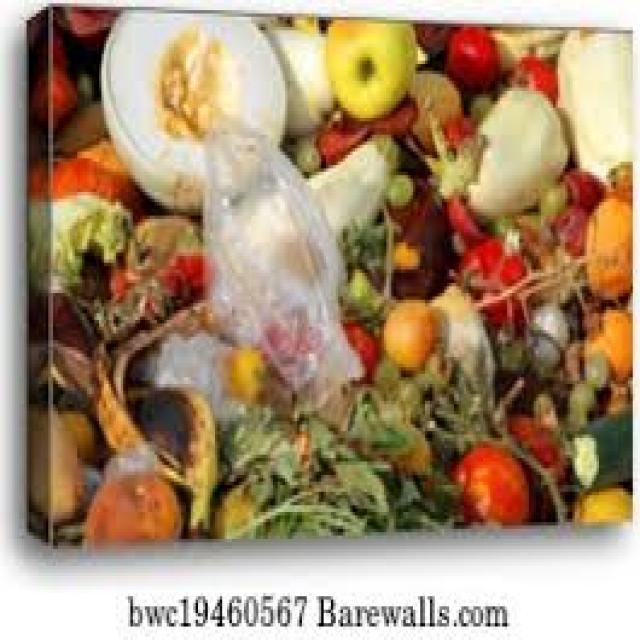organic waste: (27, 300, 215, 532), (94, 7, 285, 209), (217, 387, 464, 529), (461, 81, 565, 215), (553, 24, 628, 175), (27, 192, 128, 300), (280, 91, 418, 168), (425, 276, 495, 418), (99, 206, 205, 296), (302, 131, 398, 226), (324, 17, 416, 114), (259, 23, 338, 132), (29, 401, 97, 519), (389, 172, 449, 293), (502, 408, 565, 518), (447, 442, 526, 526), (80, 465, 178, 532), (29, 155, 135, 216), (312, 91, 413, 155), (452, 236, 526, 323), (437, 27, 565, 74), (418, 101, 478, 192), (376, 293, 439, 371), (570, 411, 628, 488), (584, 199, 630, 296), (147, 236, 203, 313), (578, 303, 630, 384), (341, 216, 391, 290), (343, 306, 384, 388), (519, 306, 568, 374), (210, 475, 263, 536), (44, 293, 96, 354), (29, 67, 77, 128), (437, 182, 488, 239), (529, 246, 582, 300), (507, 47, 558, 101), (333, 262, 379, 316), (570, 485, 628, 522), (222, 347, 263, 397), (384, 374, 423, 424), (551, 202, 589, 253), (558, 168, 599, 209), (577, 347, 609, 397), (516, 208, 550, 252), (413, 20, 461, 51), (560, 381, 596, 421), (491, 323, 526, 364), (536, 175, 570, 216), (36, 30, 68, 71), (367, 350, 399, 391), (78, 131, 119, 162), (418, 340, 449, 381), (560, 337, 587, 384), (379, 165, 413, 202), (488, 216, 526, 249), (560, 286, 582, 334), (601, 158, 628, 196), (532, 388, 560, 424), (384, 242, 415, 273), (596, 380, 630, 408), (68, 68, 92, 104), (464, 88, 488, 111), (287, 14, 319, 31)
